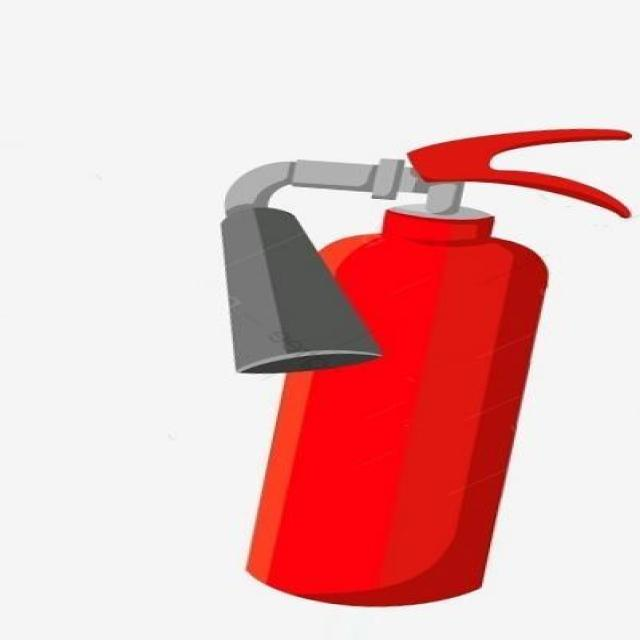fire_extinguisher: (203, 122, 638, 612)
